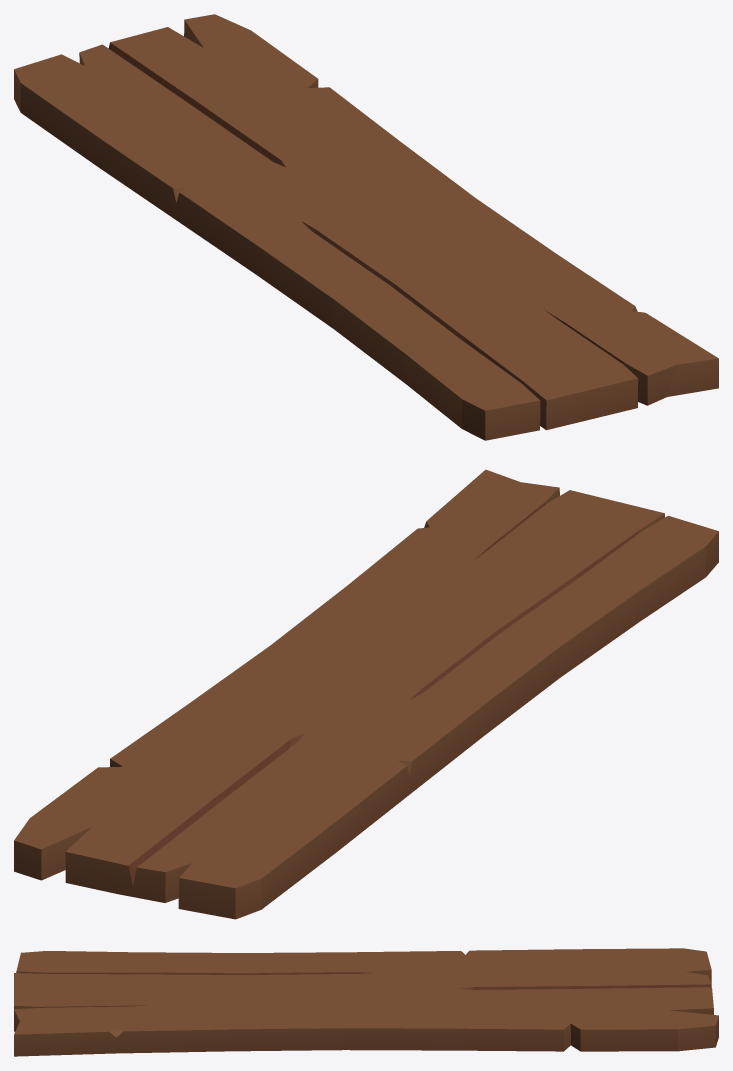
The model's file is obj_walk wood.fbx.
3 renders of one model, top to bottom at view 1: azimuth 30°, elevation 25°; view 2: azimuth 150°, elevation 25°; view 3: azimuth 270°, elevation 25°, orthographic. The views are drawn at different scales.
Visible parts, largest first — view 1: Plane.006; view 2: Plane.006; view 3: Plane.006.
Part boxes in pixels (x1,y1,x2,y2): Plane.006: [14, 14, 718, 440]; Plane.006: [14, 469, 718, 919]; Plane.006: [14, 948, 718, 1056].
Size of the model in its own units: 63.37 by 219 by 7.5.
